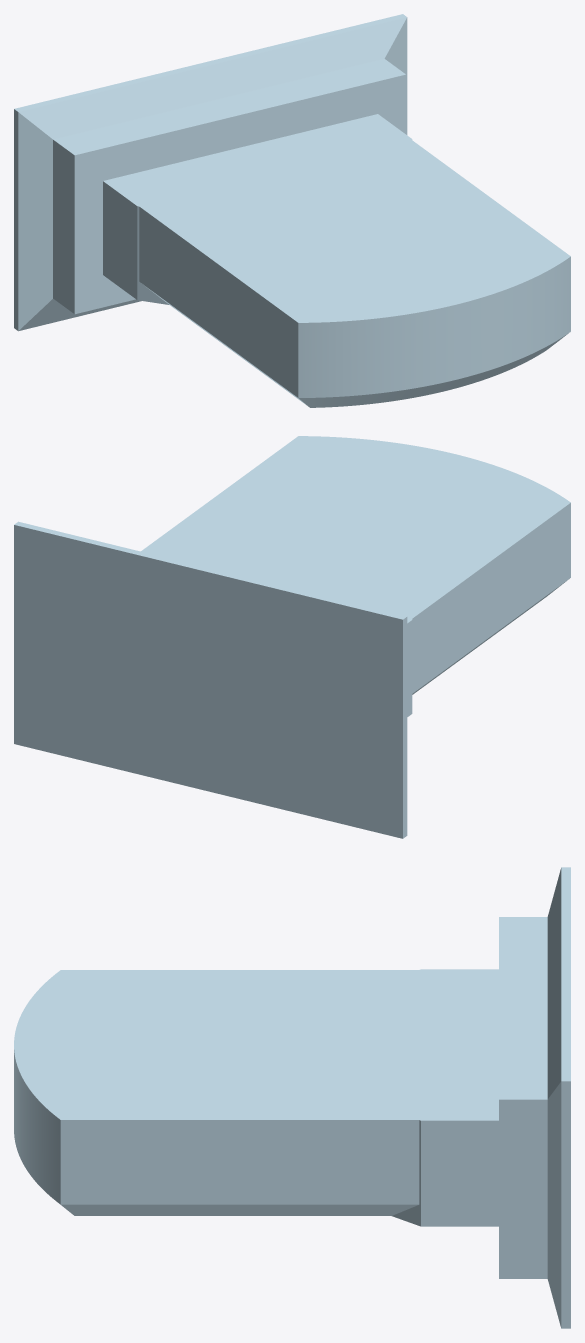
3 renders of one model, top to bottom at view 1: azimuth 30°, elevation 25°; view 2: azimuth 150°, elevation 25°; view 3: azimuth 270°, elevation 25°, orthographic. The views are drawn at different scales.
Parts seen in each view (by area): view 1: PA-587-F_LOD0; view 2: PA-587-F_LOD0; view 3: PA-587-F_LOD0.
Boxes of the visible parts, x1,y1,x2,y2 form: PA-587-F_LOD0: [14, 14, 570, 407]; PA-587-F_LOD0: [14, 436, 570, 838]; PA-587-F_LOD0: [14, 867, 570, 1328].
Size of what is drawn, in the model's own units: 66.04 by 35.56 by 72.62.
